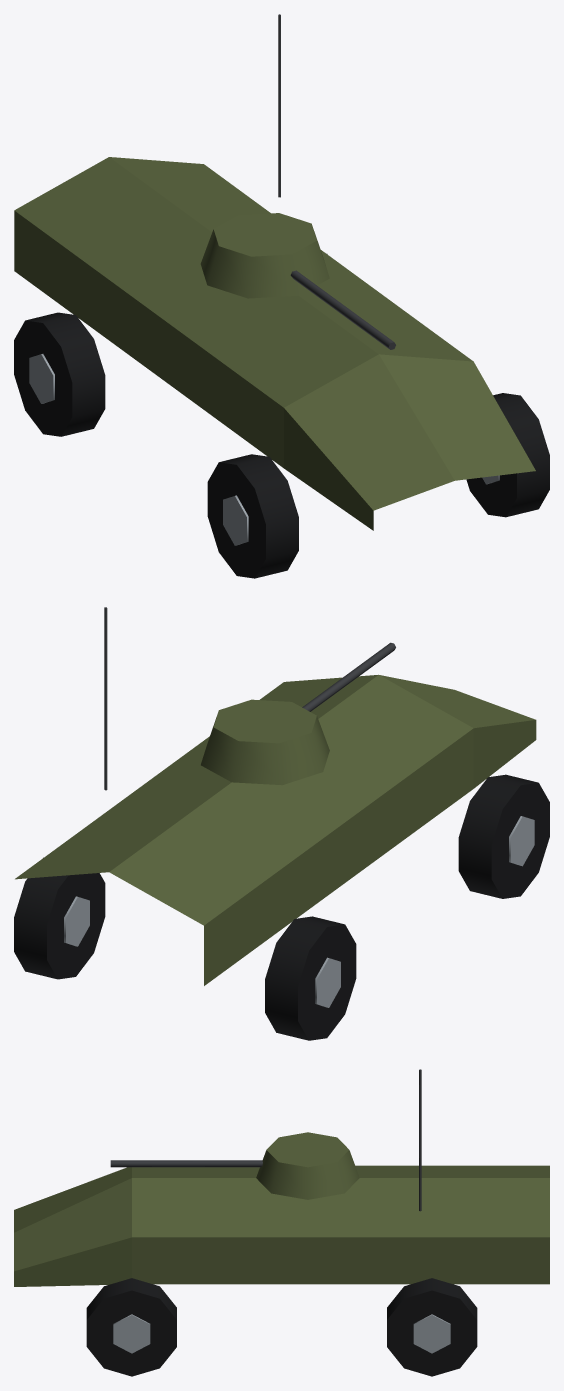
The model's file is veh_ground_scout_car_a06.glb.
The picture shows the model from 3 angles, top to bottom: view 1: azimuth 30°, elevation 25°; view 2: azimuth 150°, elevation 25°; view 3: azimuth 270°, elevation 25°; orthographic projection. The views are drawn at different scales.
Parts seen in each view (by area): view 1: body, turret, wheel_0, wheel_2, wheel_3; view 2: body, turret, wheel_0, wheel_2, wheel_1; view 3: body, wheel_1, wheel_3, turret.
Boxes of the visible parts, x1,y1,x2,y2 form: body: [14, 14, 535, 530]; turret: [200, 213, 395, 349]; wheel_0: [14, 312, 105, 436]; wheel_2: [207, 454, 298, 578]; wheel_3: [466, 393, 549, 517]; body: [15, 607, 536, 985]; turret: [201, 642, 395, 785]; wheel_0: [265, 916, 356, 1040]; wheel_2: [458, 774, 549, 898]; wheel_1: [14, 857, 105, 979]; body: [14, 1069, 549, 1286]; wheel_1: [387, 1278, 477, 1376]; wheel_3: [86, 1278, 176, 1376]; turret: [110, 1132, 359, 1199].
Size of what is drawn, in the model's own units: 2.98 by 3.65 by 6.2.
